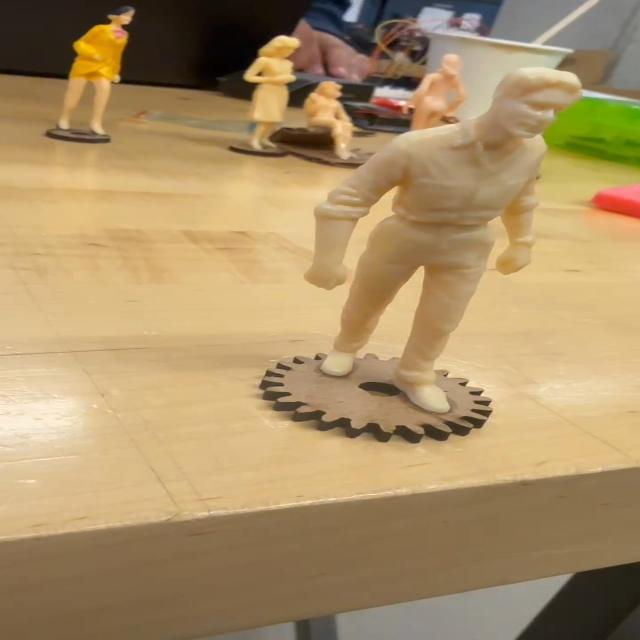Unauthorized: (311, 60, 584, 412)
